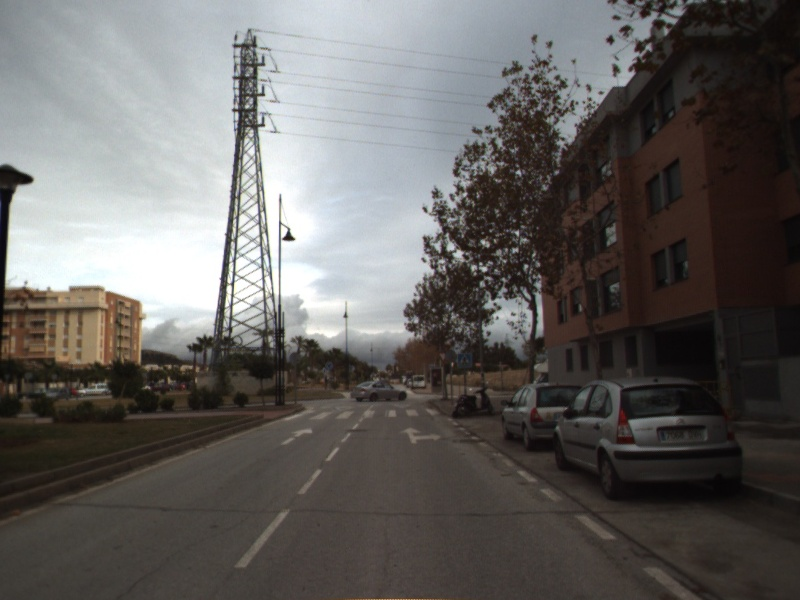STRAIGHT: (279, 425, 314, 447)
STRAIGHT_RIGHT: (398, 425, 443, 445)
